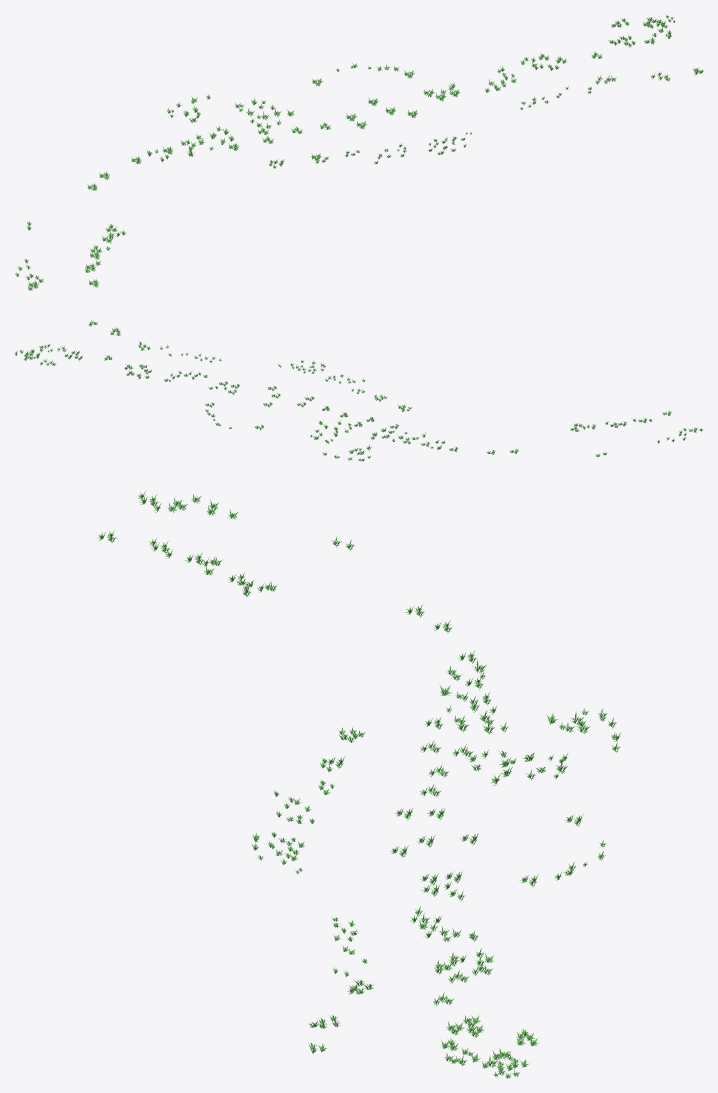
The model's file is Area_06_1.fbx.
3 views of the same model, one above another, from view 1: azimuth 30°, elevation 25°; view 2: azimuth 150°, elevation 25°; view 3: azimuth 270°, elevation 25° (orthographic). The views are drawn at different scales.
Parts seen in each view (by area): view 1: Area_06_1; view 2: Area_06_1; view 3: Area_06_1.
Boxes of the visible parts, x1,y1,x2,y2 form: Area_06_1: (15,15,703,290); Area_06_1: (15,320,703,461); Area_06_1: (97,491,620,1078).
Bounding box in the file's own units: 13490 × 139 × 5143.
